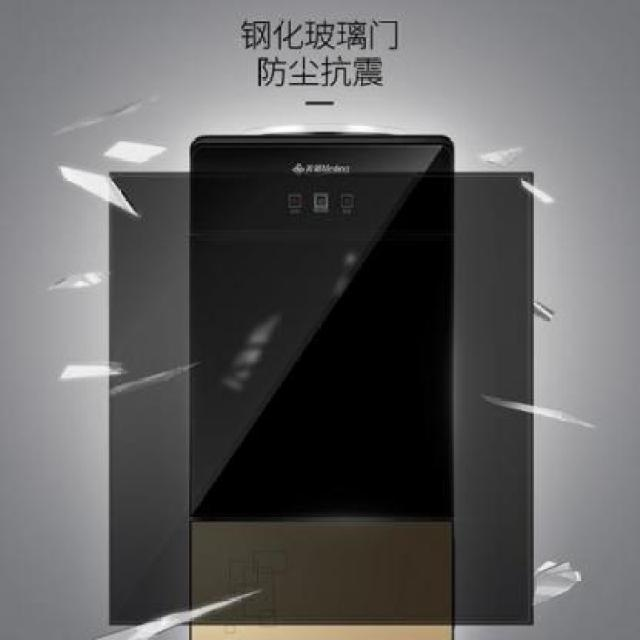cooler: (184, 124, 465, 640)
